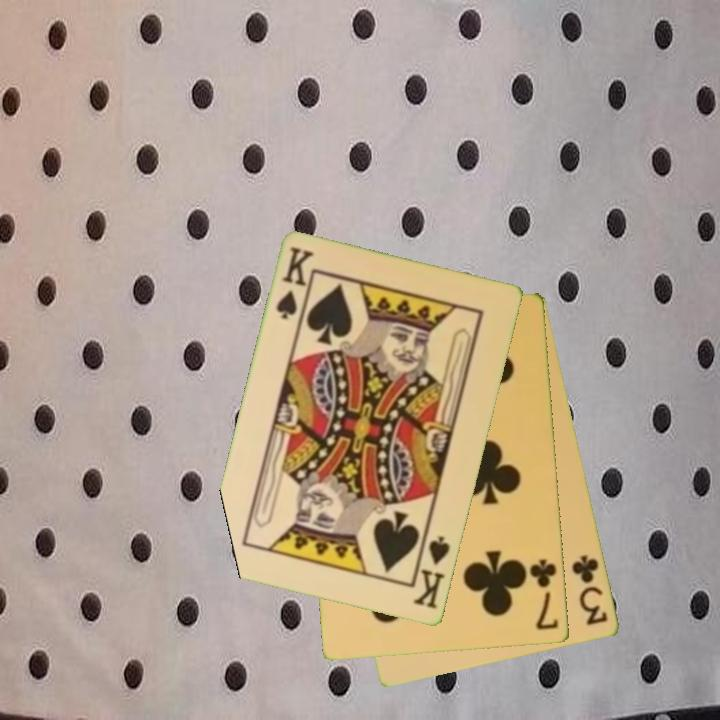3c: (568, 552, 611, 629)
7c: (526, 556, 562, 634)
Ks: (410, 529, 453, 613), (273, 243, 318, 323)
